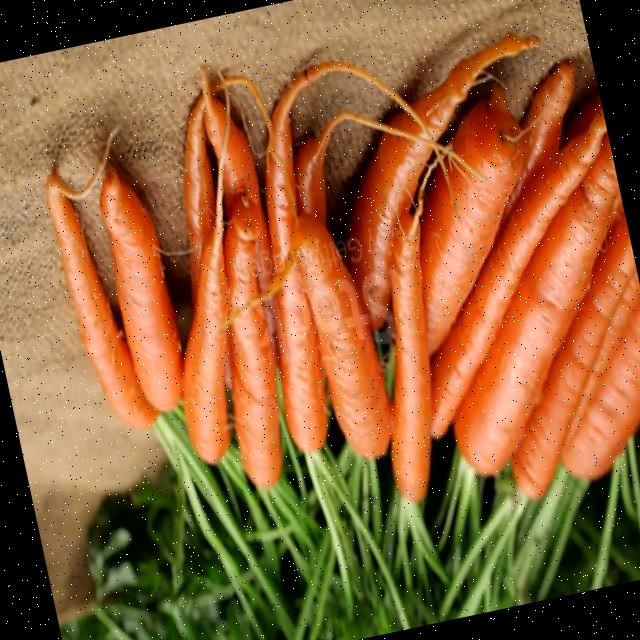carrot: (429, 108, 606, 436), (453, 134, 618, 473), (339, 39, 520, 324), (511, 213, 636, 498), (414, 88, 521, 358), (44, 175, 157, 425), (264, 65, 327, 452), (290, 215, 389, 454), (98, 166, 182, 410), (222, 194, 282, 488), (560, 296, 640, 479), (182, 190, 229, 462), (389, 203, 431, 501), (181, 93, 214, 296), (293, 130, 330, 222), (262, 302, 273, 338)
